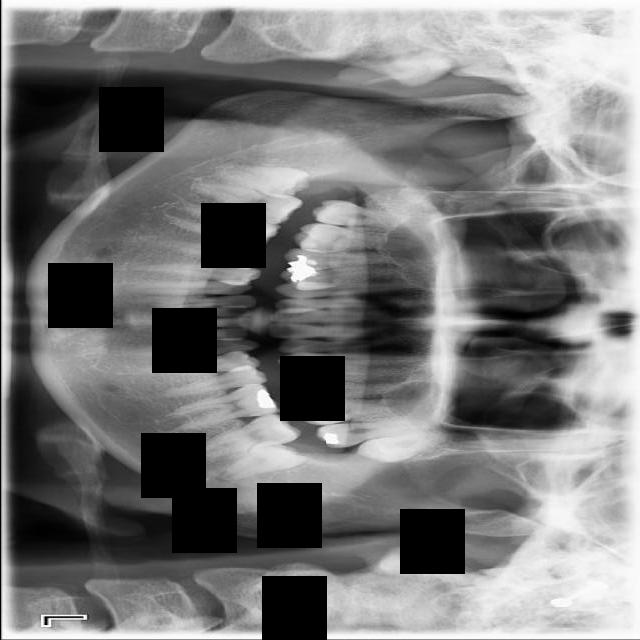52: (226, 375, 282, 432), (290, 218, 350, 259), (221, 216, 280, 255), (278, 266, 335, 292), (313, 422, 365, 449), (282, 246, 334, 272), (214, 245, 266, 271)
73: (67, 595, 87, 604)
BioHorizons Implant: (314, 414, 431, 451)
BioLife Implant: (353, 423, 451, 470)
Biomet 3i Implant: (211, 433, 308, 486)
Blue Sky Bio Implant: (187, 408, 303, 463)
Caries: (309, 195, 430, 241)
Implant: (190, 177, 304, 229)
Keystone Dental Implant: (210, 159, 312, 202)
